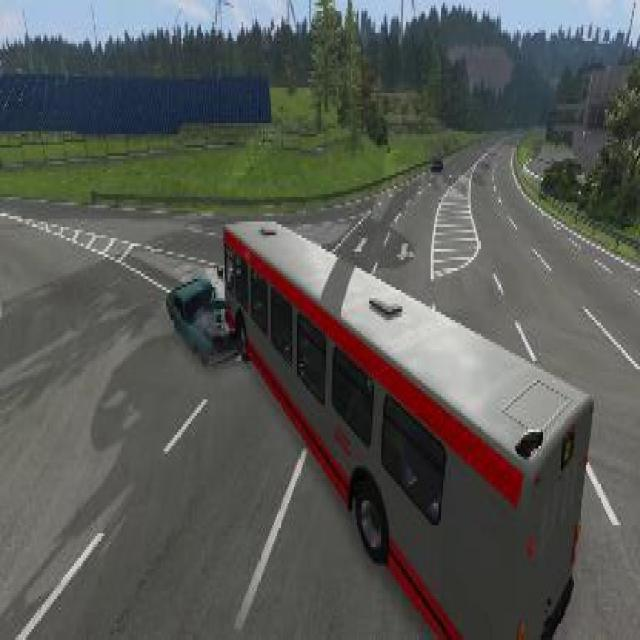accident: (163, 205, 599, 640)
